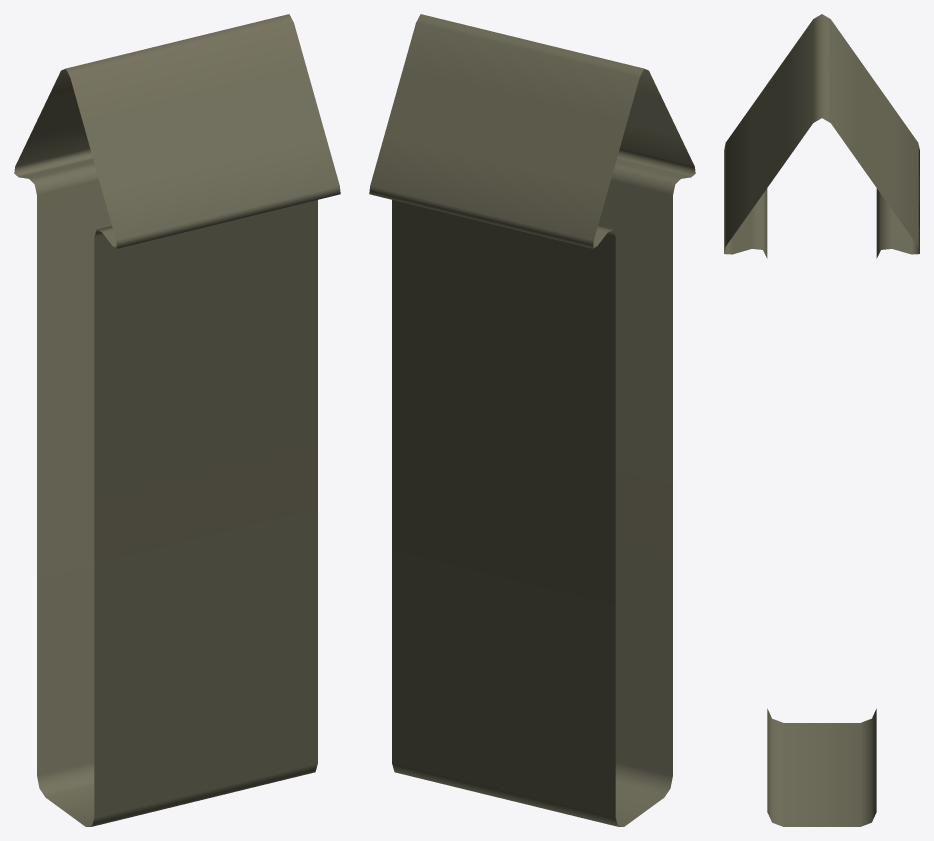
Rendered from FenceMiddle_v02.glb.
3 renders of one model, left to right at view 1: azimuth 30°, elevation 25°; view 2: azimuth 150°, elevation 25°; view 3: azimuth 270°, elevation 25°, orthographic. The views are drawn at different scales.
Visible parts, largest first — view 1: SM_FenceMiddle; view 2: SM_FenceMiddle; view 3: SM_FenceMiddle.
Part boxes in pixels (x1,y1,x2,y2): SM_FenceMiddle: (14, 14, 340, 826); SM_FenceMiddle: (369, 14, 695, 826); SM_FenceMiddle: (724, 14, 919, 826).
Bounding box in the file's own units: 0.76 × 2.41 × 0.6043.
